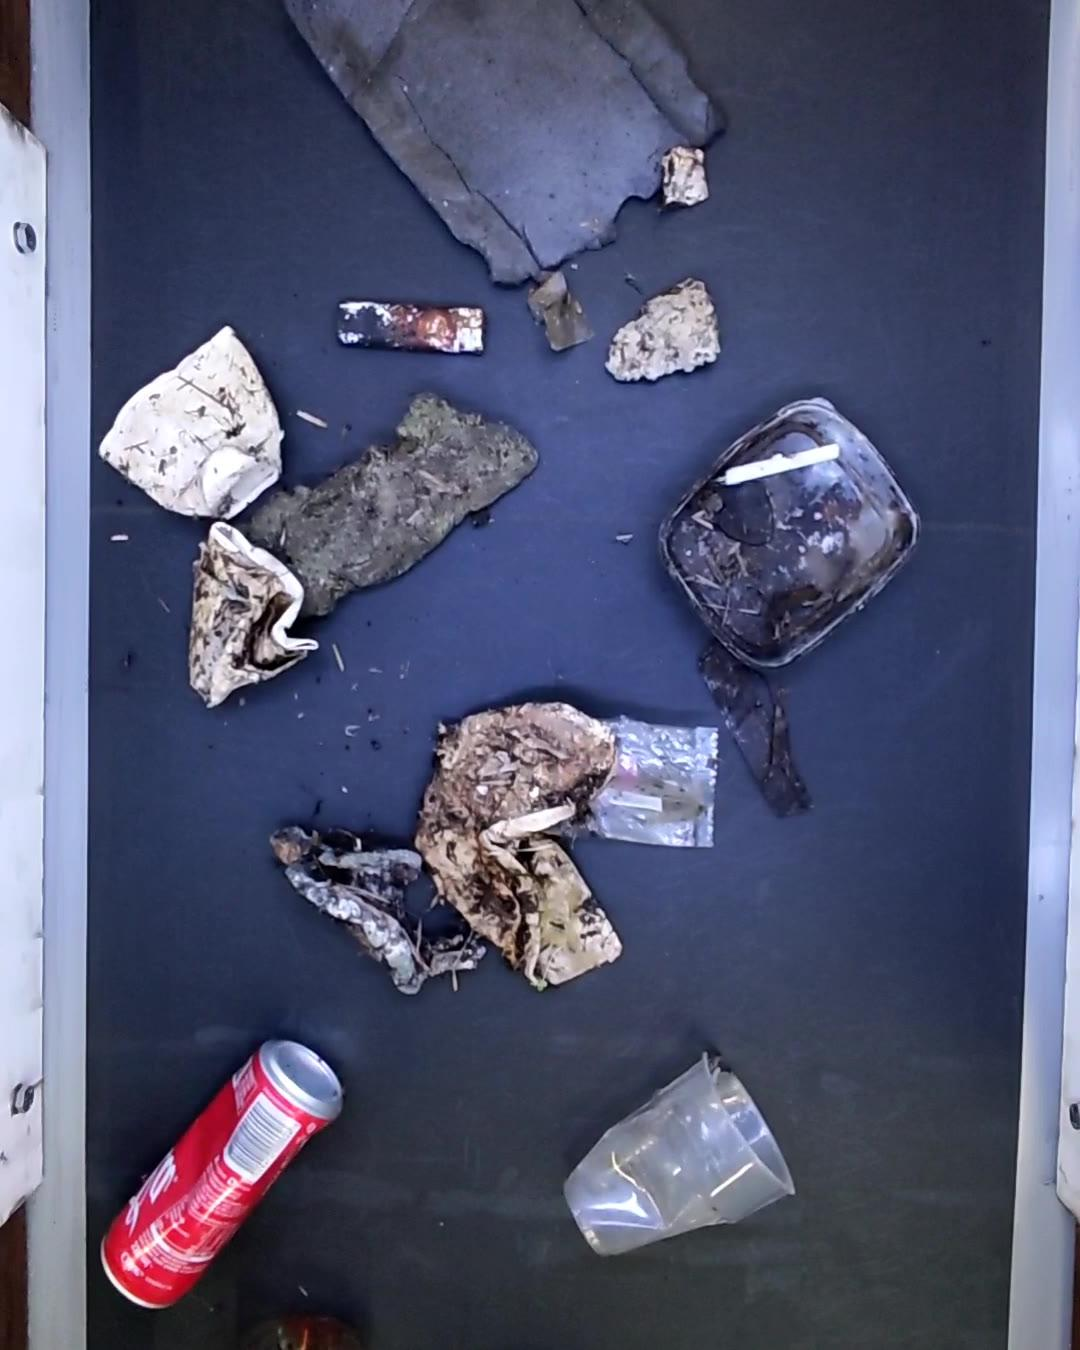Drankblikjes: (98, 1037, 345, 1310)
Plastic folies of stukken daarvan 2.5- 50 cm: (548, 715, 719, 849)
Voedselverpakkingen: (665, 397, 920, 657)
